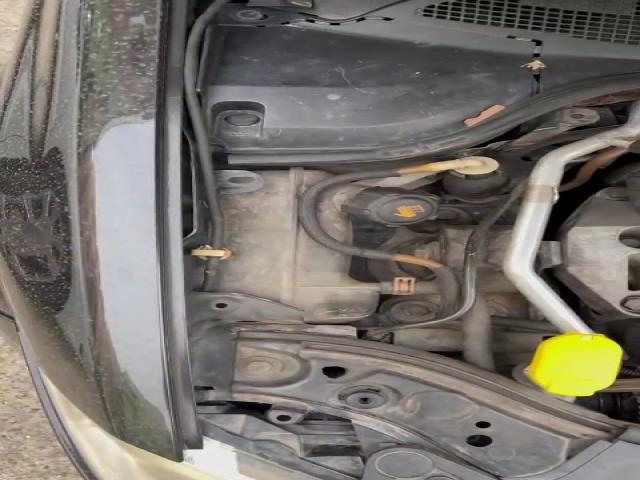antifreeze_tank: (216, 168, 378, 323), (318, 183, 439, 241)
